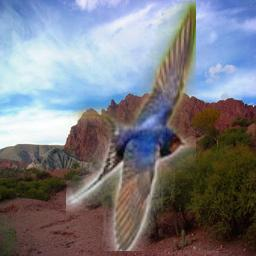Swallow: (66, 1, 196, 251)
